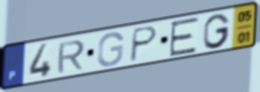4: (27, 42, 54, 79)
E: (167, 15, 201, 58)
G: (202, 12, 232, 50), (96, 31, 125, 68)
P: (128, 24, 160, 64)
R: (56, 39, 87, 75)
